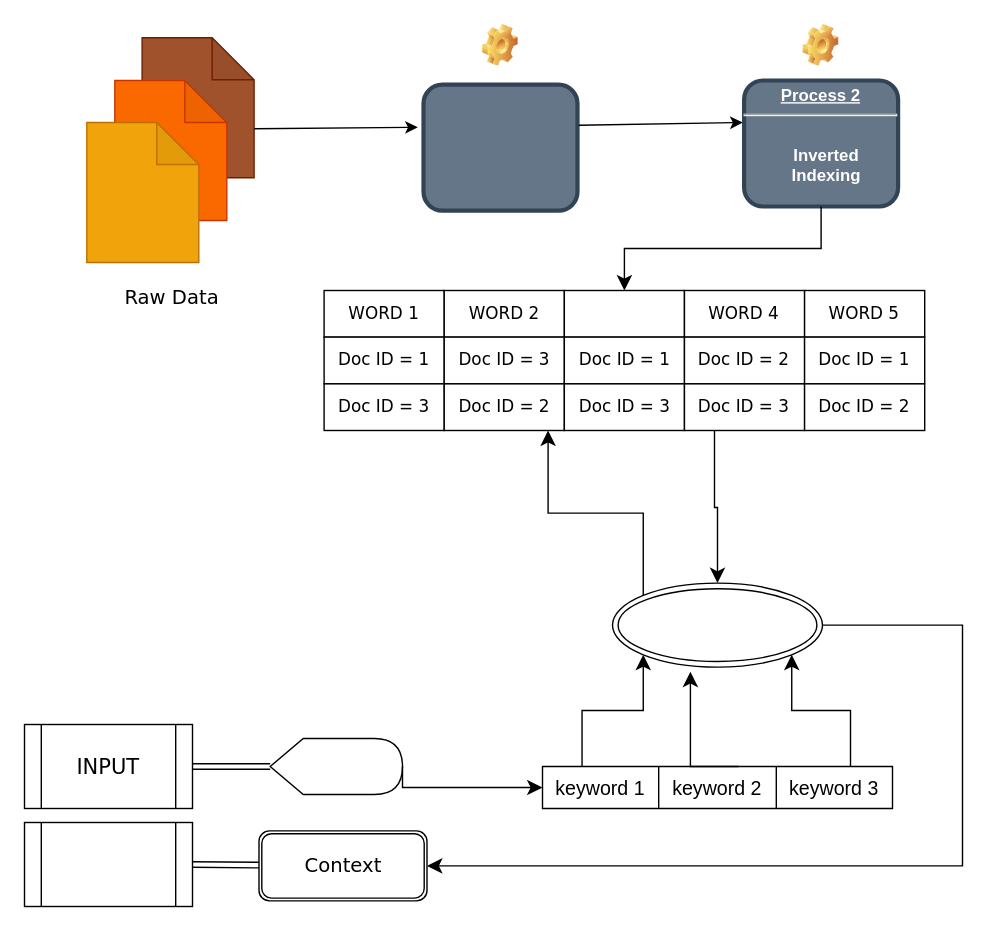
Some shapes in this 1001 by 931 pixel diagram are drawn without their labels. Each missing label, with the box of its shape:
OUTPUT: (23, 821, 192, 906)
Process 1 Indexing Process: (421, 82, 579, 212)
Query: (269, 737, 402, 794)
Search Document: (611, 582, 822, 667)
WORD 3: (563, 289, 684, 337)
